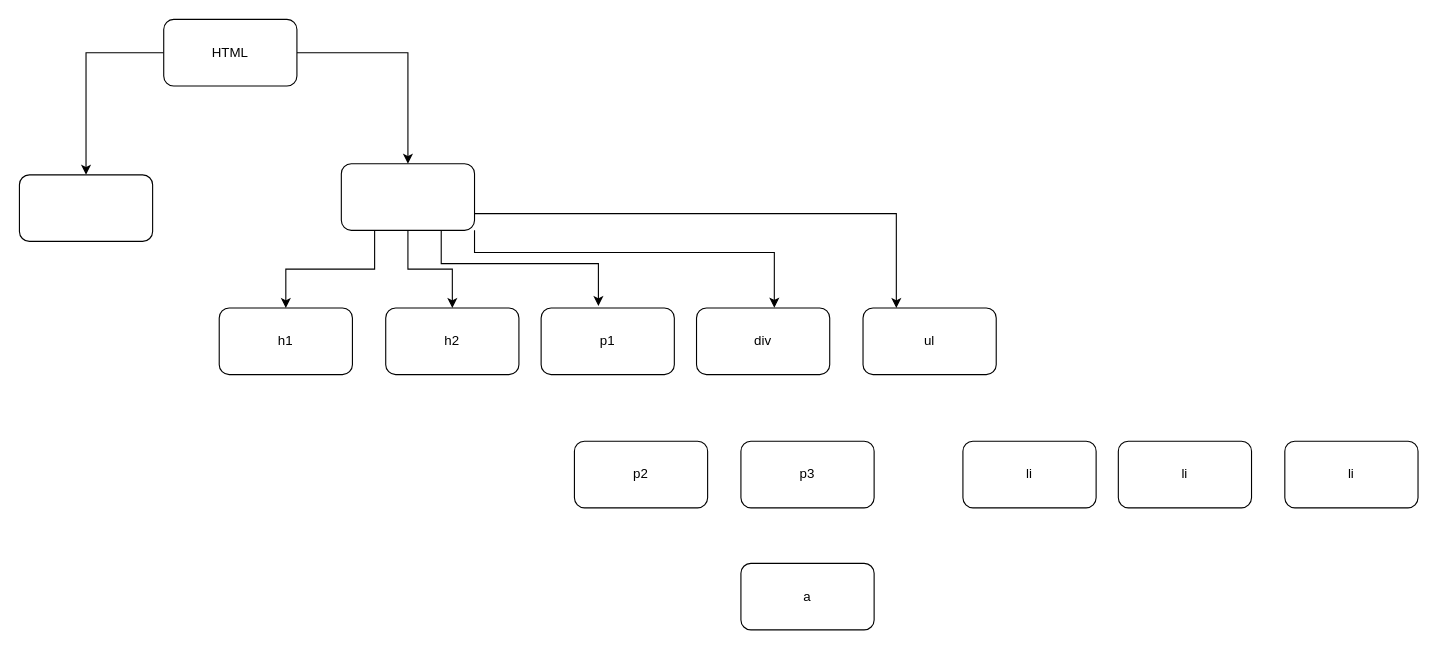
The diagram is 1437 pixels wide and 649 high, and some of its shapes have lost their labels. The shapes that lost their labels are listed below. From the top down, each one's centre as x and y in pixels, then its label:
the point at 85,207: Head
the point at 407,196: Body
